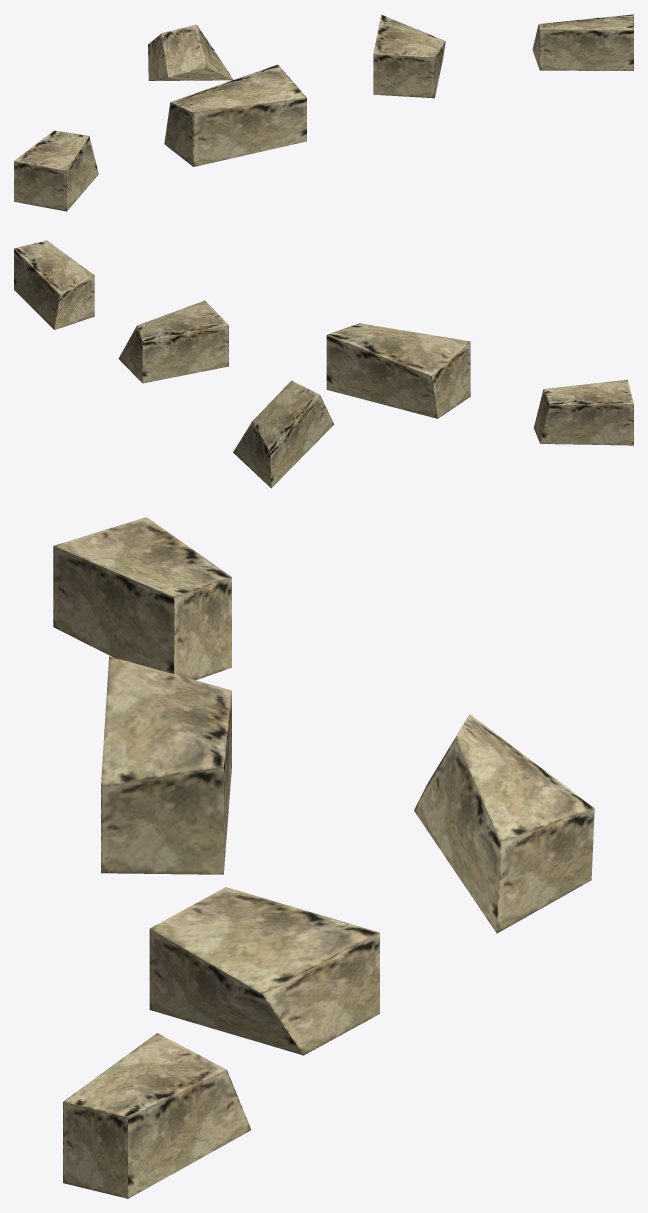
The model's file is M12_Rubble05.glb.
The picture shows the model from 3 angles, top to bottom: view 1: azimuth 30°, elevation 25°; view 2: azimuth 150°, elevation 25°; view 3: azimuth 270°, elevation 25°; orthographic projection. The views are drawn at different scales.
Visible parts, largest first — view 1: M12_RUBBLE05; view 2: M12_RUBBLE05; view 3: M12_RUBBLE05.
Boxes of the visible parts, box(x1,y1,x2,y2) form: M12_RUBBLE05: box(14, 14, 633, 211); M12_RUBBLE05: box(14, 240, 633, 488); M12_RUBBLE05: box(53, 517, 594, 1198).
Size of the model in its own units: 2.77 by 0.336 by 1.06.
1 material, 1 textured.
